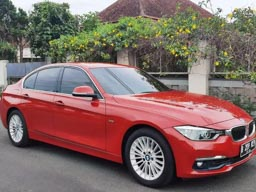plat: (238, 137, 254, 157)
